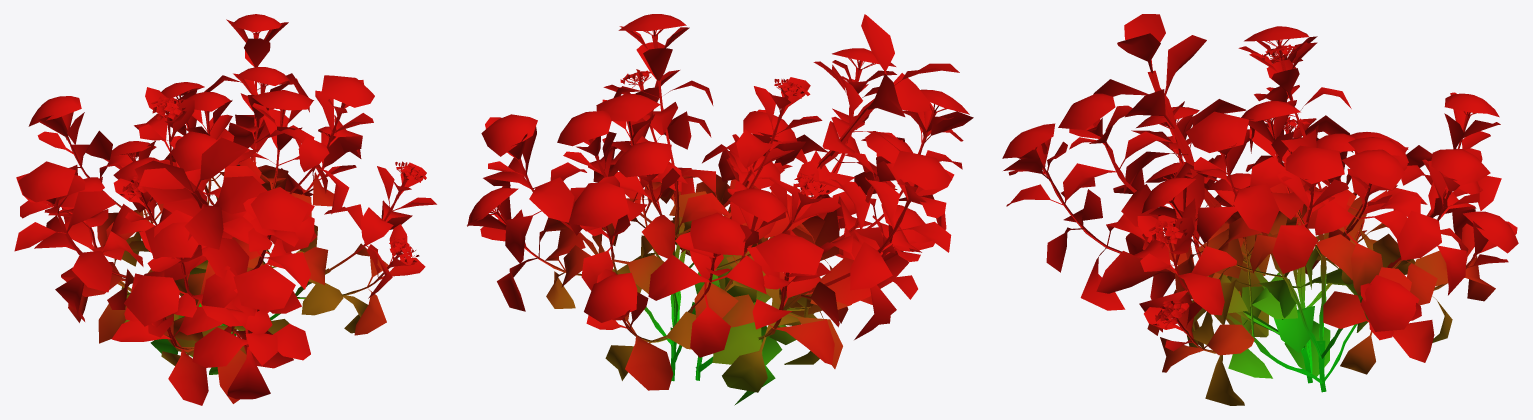
The model's file is Var3_LOD4.fbx.
3 views of the same model, side by side, from view 1: azimuth 30°, elevation 25°; view 2: azimuth 150°, elevation 25°; view 3: azimuth 270°, elevation 25° (orthographic). The views are drawn at different scales.
Parts seen in each view (by area): view 1: _zn1w_Var3_LOD4; view 2: _zn1w_Var3_LOD4; view 3: _zn1w_Var3_LOD4.
Boxes of the visible parts, x1=… form: _zn1w_Var3_LOD4: x1=14, y1=14, x2=436, y2=405; _zn1w_Var3_LOD4: x1=467, y1=14, x2=973, y2=405; _zn1w_Var3_LOD4: x1=1002, y1=14, x2=1518, y2=405.
Bounding box in the file's own units: 178 × 132 × 190.
